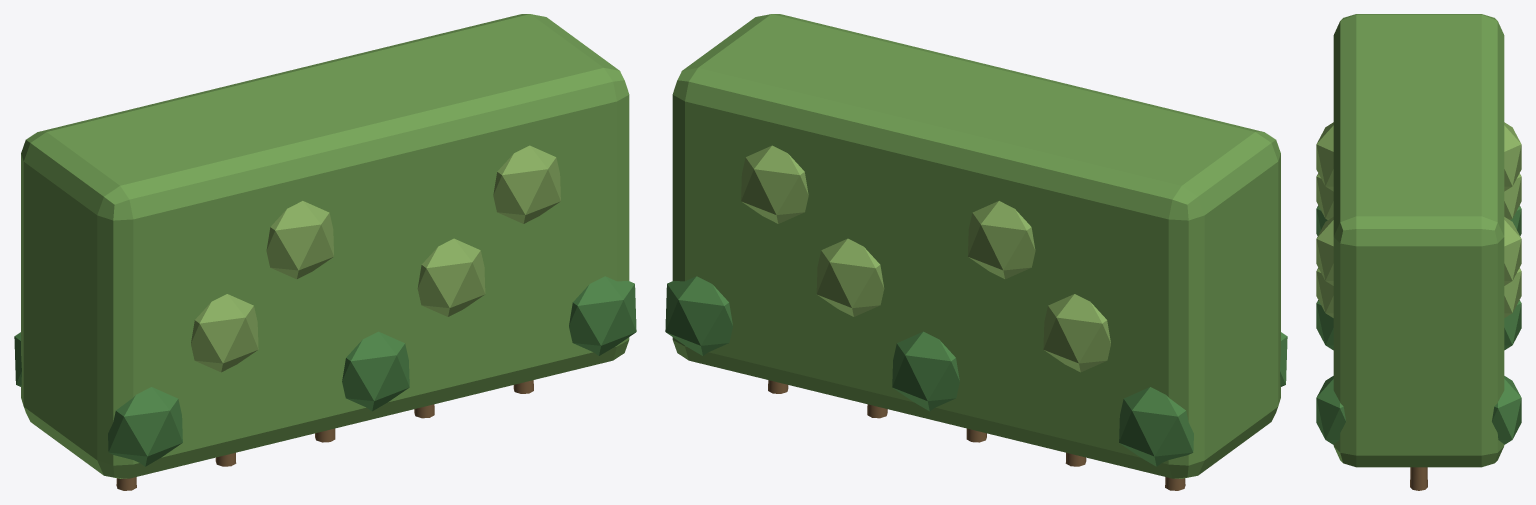
Rendered from hedge_straight_box.glb.
3 views of the same model, side by side, from view 1: azimuth 30°, elevation 25°; view 2: azimuth 150°, elevation 25°; view 3: azimuth 270°, elevation 25° (orthographic). The views are drawn at different scales.
Parts seen in each view (by area): view 1: Trimmed straight hedge body, Small foliage cluster, Small foliage cluster.006, Small foliage cluster.003, Small foliage cluster.001, Small foliage cluster.004, Small foliage cluster.005, Small foliage cluster.002; view 2: Trimmed straight hedge body, Small foliage cluster.007, Small foliage cluster.013, Small foliage cluster.010, Small foliage cluster.008, Small foliage cluster.011, Small foliage cluster.012, Small foliage cluster.009; view 3: Trimmed straight hedge body, Small foliage cluster.006, Small foliage cluster.013, Small foliage cluster.002, Small foliage cluster.009, Small foliage cluster.005, Small foliage cluster.012, Small foliage cluster.003, Small foliage cluster.010, Small foliage cluster.004, Small foliage cluster.011, Small foliage cluster.001 (+2 smaller).
Boxes of the visible parts, left/top/right/bottom form: Trimmed straight hedge body: left=21, top=14, right=629, bottom=478; Small foliage cluster: left=108, top=387, right=182, bottom=466; Small foliage cluster.006: left=569, top=276, right=636, bottom=355; Small foliage cluster.003: left=342, top=331, right=409, bottom=411; Small foliage cluster.001: left=191, top=294, right=258, bottom=372; Small foliage cluster.004: left=417, top=238, right=485, bottom=316; Small foliage cluster.005: left=493, top=145, right=560, bottom=223; Small foliage cluster.002: left=266, top=201, right=333, bottom=279; Trimmed straight hedge body: left=672, top=14, right=1280, bottom=478; Small foliage cluster.007: left=1119, top=387, right=1193, bottom=466; Small foliage cluster.013: left=665, top=276, right=732, bottom=355; Small foliage cluster.010: left=892, top=331, right=959, bottom=411; Small foliage cluster.008: left=1043, top=294, right=1110, bottom=372; Small foliage cluster.011: left=816, top=238, right=884, bottom=316; Small foliage cluster.012: left=741, top=145, right=808, bottom=223; Small foliage cluster.009: left=968, top=201, right=1035, bottom=279; Trimmed straight hedge body: left=1333, top=14, right=1504, bottom=467; Small foliage cluster.006: left=1316, top=376, right=1345, bottom=444; Small foliage cluster.013: left=1492, top=376, right=1521, bottom=444; Small foliage cluster.002: left=1316, top=122, right=1333, bottom=191; Small foliage cluster.009: left=1504, top=122, right=1521, bottom=191; Small foliage cluster.005: left=1316, top=217, right=1333, bottom=285; Small foliage cluster.012: left=1504, top=217, right=1521, bottom=285; Small foliage cluster.003: left=1316, top=300, right=1333, bottom=350; Small foliage cluster.010: left=1504, top=300, right=1521, bottom=350; Small foliage cluster.004: left=1316, top=268, right=1333, bottom=317; Small foliage cluster.011: left=1504, top=268, right=1521, bottom=317; Small foliage cluster.001: left=1316, top=173, right=1333, bottom=219.
Size of the model in its own units: 2.08 by 1.27 by 0.8171.
